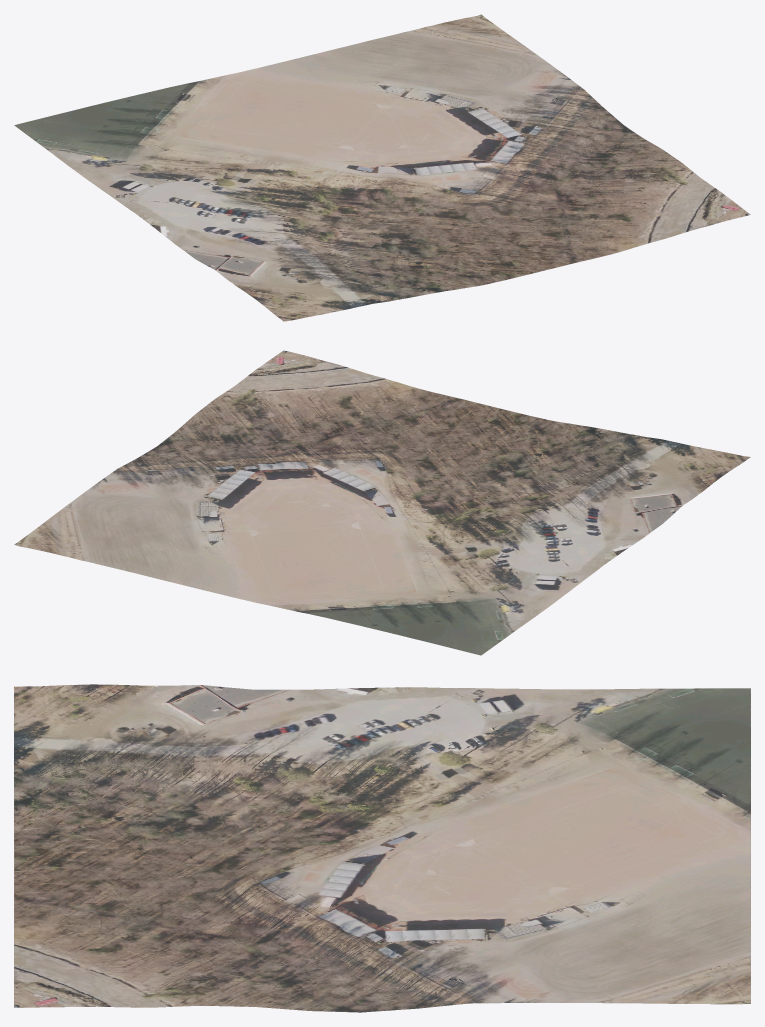
Rendered from CM_Terrain_24489844_6822046.fbx.
3 renders of one model, top to bottom at view 1: azimuth 30°, elevation 25°; view 2: azimuth 150°, elevation 25°; view 3: azimuth 270°, elevation 25°, orthographic. The views are drawn at different scales.
Visible parts, largest first — view 1: CM_Terrain_24489844_6822046_LOD0; view 2: CM_Terrain_24489844_6822046_LOD0; view 3: CM_Terrain_24489844_6822046_LOD0.
Part boxes in pixels (x1,y1,x2,y2): CM_Terrain_24489844_6822046_LOD0: (14,14,750,321); CM_Terrain_24489844_6822046_LOD0: (14,350,750,655); CM_Terrain_24489844_6822046_LOD0: (14,684,750,1012).
Size of what is drawn, in the model's own units: 205 by 6.03 by 205.
